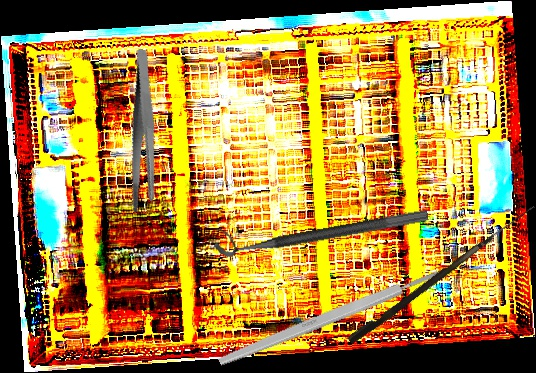Dressing Forceps: (96, 48, 191, 216)
Fixation Ring: (210, 191, 430, 260)
Hook Surgical: (347, 197, 535, 348)
Scalpel Handle: (216, 267, 442, 369)
